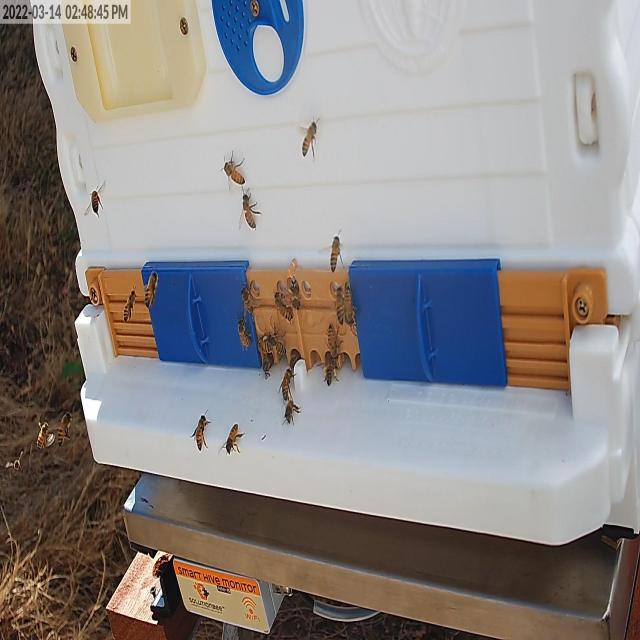honeybee: (296, 125, 338, 167), (74, 171, 104, 210), (140, 251, 167, 294), (226, 418, 247, 470), (188, 403, 209, 452), (323, 216, 346, 258), (234, 199, 264, 229), (280, 395, 304, 428), (342, 283, 359, 329), (236, 276, 254, 319), (119, 290, 135, 336), (234, 306, 250, 351), (286, 264, 304, 300), (216, 154, 242, 178), (314, 361, 336, 387), (270, 284, 287, 314), (315, 329, 338, 350), (278, 371, 296, 396), (260, 342, 284, 359), (335, 274, 345, 314), (277, 366, 288, 382)
